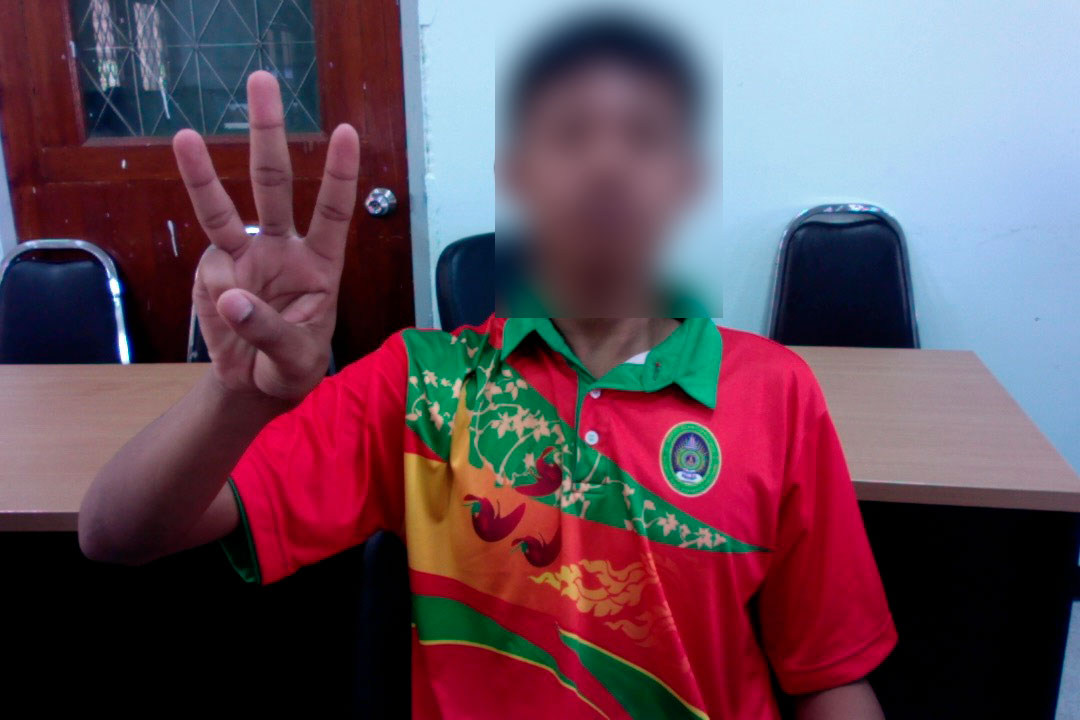wor: (151, 70, 367, 411)
